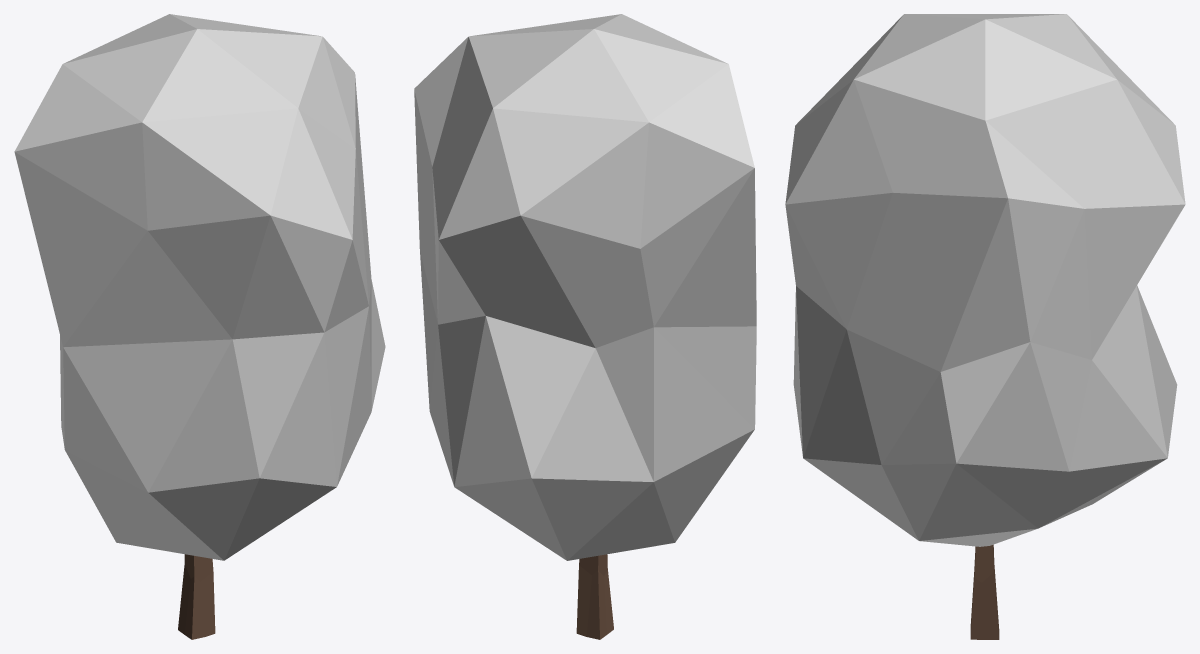
The model's file is Tree_7_White.fbx.
The picture shows the model from 3 angles, left to right: view 1: azimuth 30°, elevation 25°; view 2: azimuth 150°, elevation 25°; view 3: azimuth 270°, elevation 25°; orthographic projection. The views are drawn at different scales.
Parts seen in each view (by area): view 1: Tree_7_White_Part_1, Tree_7_White_Part_2; view 2: Tree_7_White_Part_1, Tree_7_White_Part_2; view 3: Tree_7_White_Part_1, Tree_7_White_Part_2.
Boxes of the visible parts, bbox=[...] form: Tree_7_White_Part_1: bbox=[14, 14, 385, 560]; Tree_7_White_Part_2: bbox=[178, 554, 215, 639]; Tree_7_White_Part_1: bbox=[414, 14, 756, 560]; Tree_7_White_Part_2: bbox=[576, 554, 613, 639]; Tree_7_White_Part_1: bbox=[785, 14, 1185, 546]; Tree_7_White_Part_2: bbox=[970, 544, 999, 639].
Bounding box in the file's own units: 478 × 796 × 468.
